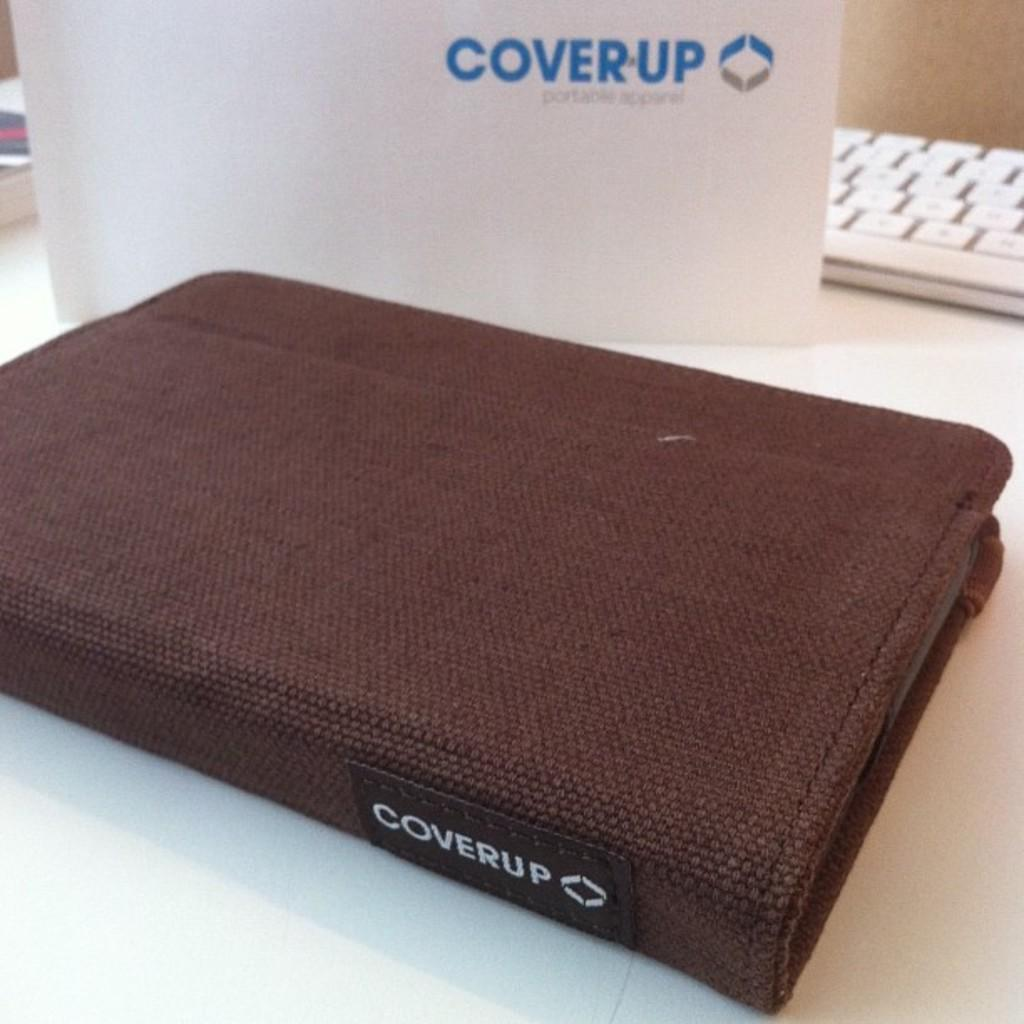Computer-keyboard: (820, 124, 1022, 325)
